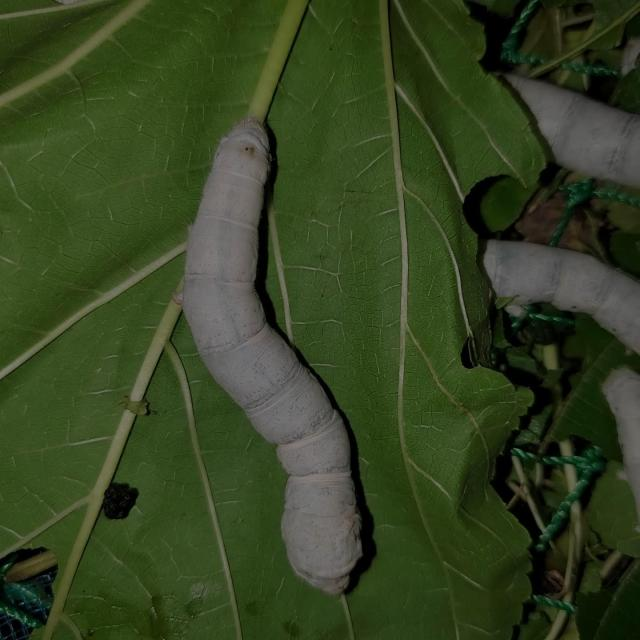Healthy: (167, 101, 399, 610)
